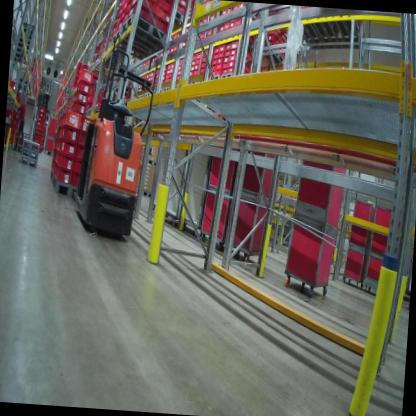pallet: (119, 11, 171, 54), (111, 25, 159, 52), (50, 176, 86, 201), (255, 44, 288, 71), (166, 6, 188, 27), (20, 137, 41, 153), (217, 70, 236, 86), (12, 50, 32, 65), (17, 30, 35, 43), (19, 157, 39, 168), (21, 148, 39, 159), (16, 40, 32, 51), (17, 36, 33, 47), (19, 24, 35, 35), (206, 74, 220, 86), (16, 47, 32, 56), (196, 77, 206, 88), (172, 83, 182, 93), (35, 124, 47, 132), (6, 107, 13, 120), (162, 85, 172, 94), (150, 88, 158, 98), (143, 91, 151, 101), (35, 129, 45, 137), (38, 107, 48, 115), (138, 92, 146, 100), (4, 142, 9, 152), (160, 88, 166, 96), (39, 112, 46, 118)
pallet_truck: (65, 36, 160, 244)
small_load_carrier: (61, 107, 83, 132), (56, 132, 79, 155), (129, 6, 154, 27), (57, 121, 80, 143), (156, 0, 179, 17), (53, 152, 73, 171), (130, 0, 157, 13), (53, 164, 71, 183), (80, 113, 96, 134), (173, 0, 191, 18), (154, 4, 171, 23), (70, 99, 90, 114), (78, 66, 93, 86), (73, 143, 89, 161), (153, 16, 167, 34), (73, 90, 89, 104), (77, 79, 93, 93), (124, 0, 135, 18), (71, 172, 85, 185), (72, 160, 86, 173), (122, 10, 135, 23), (79, 133, 89, 144), (126, 0, 136, 6)
